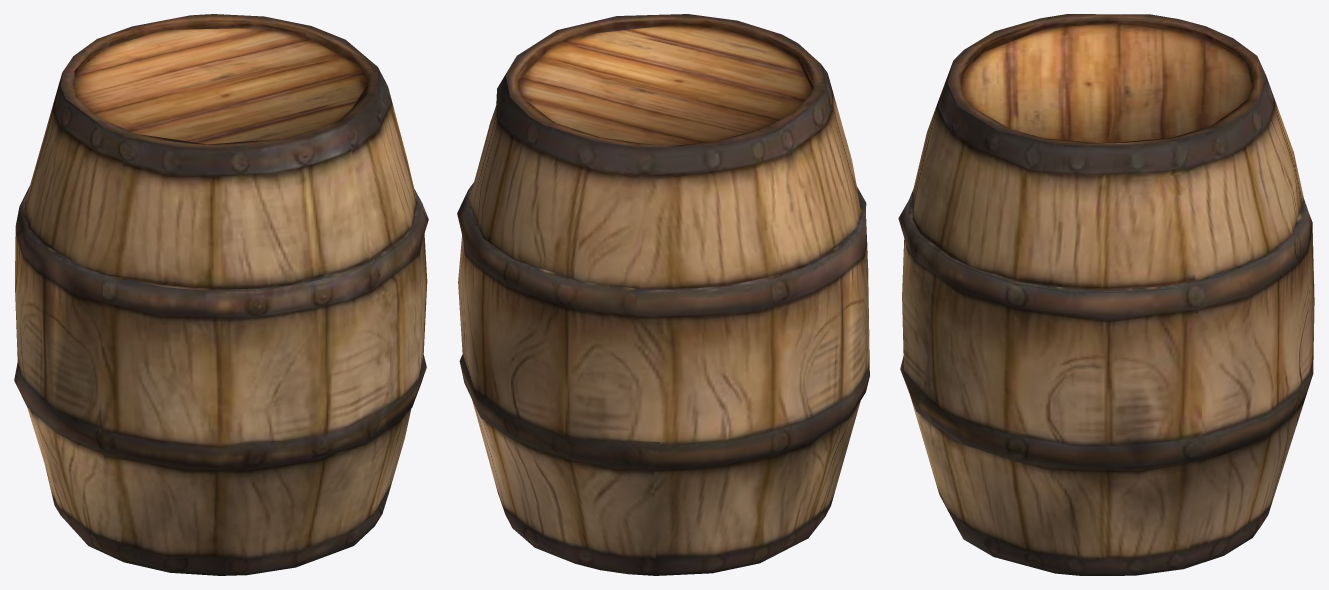
File: wooden-barrel.glb
The picture shows the model from 3 angles, left to right: view 1: azimuth 30°, elevation 25°; view 2: azimuth 150°, elevation 25°; view 3: azimuth 270°, elevation 25°; orthographic projection.
Bounding box in the file's own units: 1.74 × 2 × 1.75.
Materials: 1 (1 with a texture image).
